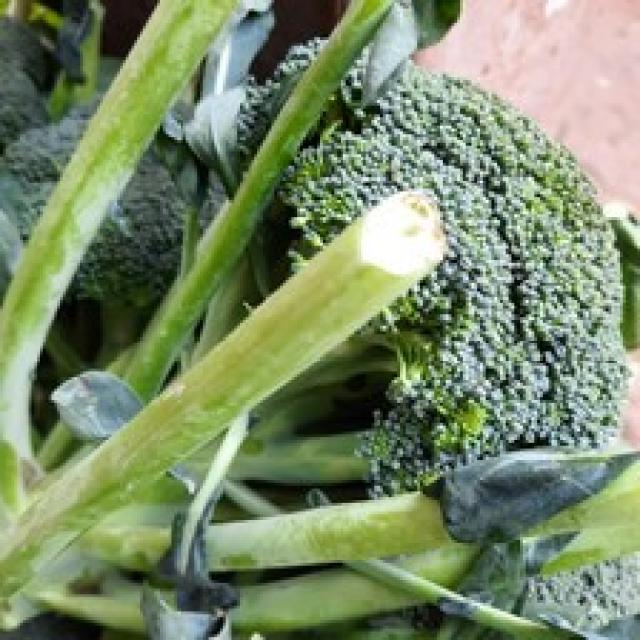Broccoli: (281, 66, 628, 494), (281, 66, 626, 493)
